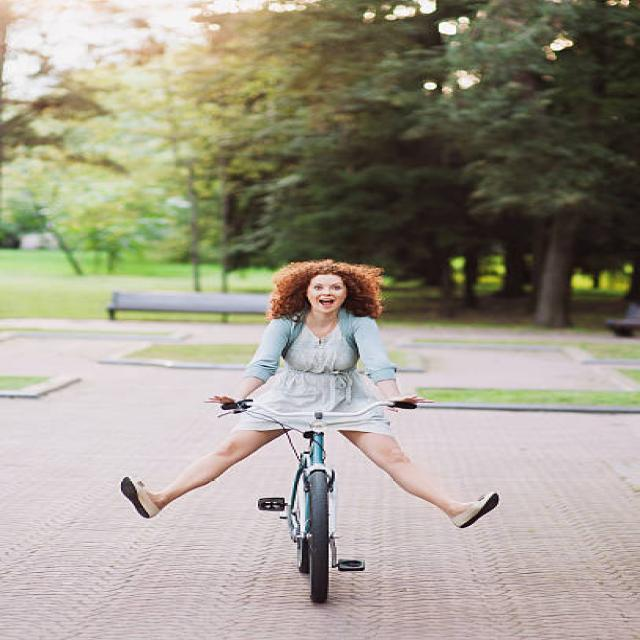bicycle: (120, 260, 498, 602)
